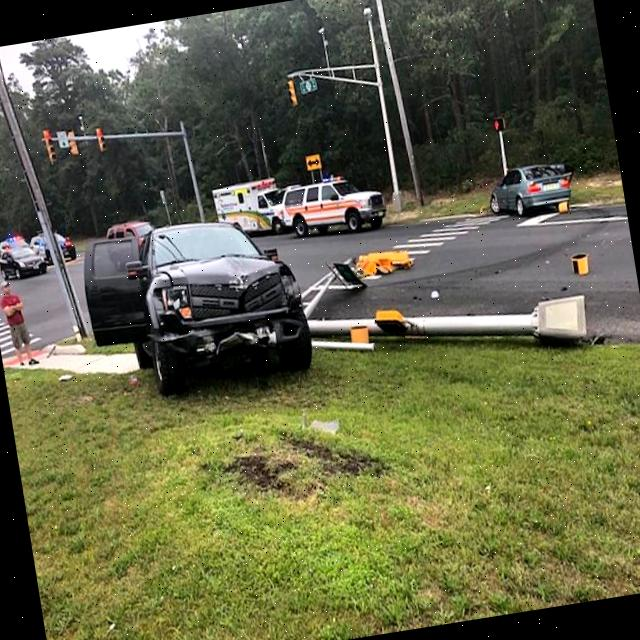Broken Pole: (303, 252, 589, 342)
